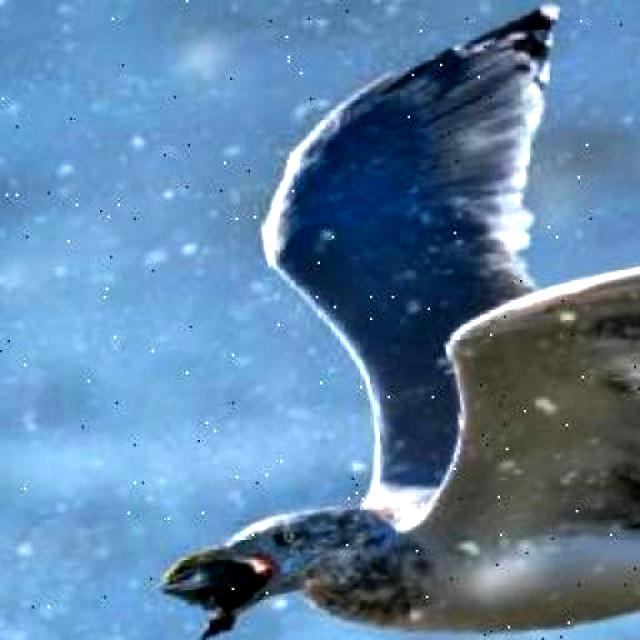airplane: (71, 0, 640, 640)
